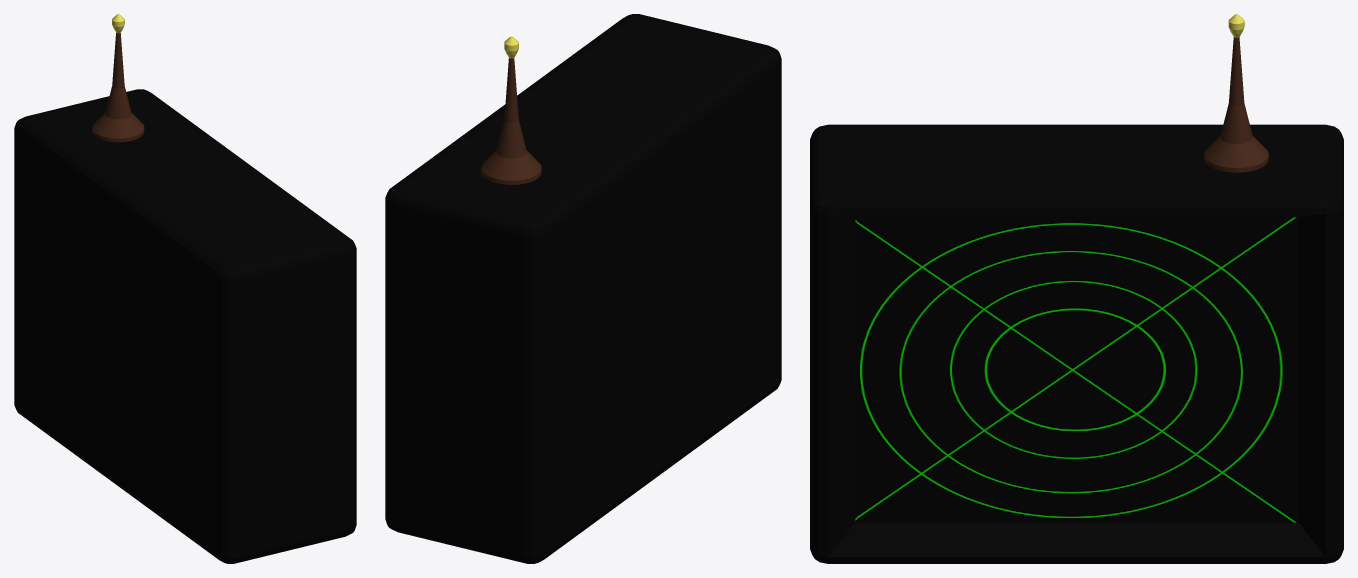
The model's file is radar.fbx.
The picture shows the model from 3 angles, left to right: view 1: azimuth 30°, elevation 25°; view 2: azimuth 150°, elevation 25°; view 3: azimuth 270°, elevation 25°; orthographic projection. The views are drawn at different scales.
Visible parts, largest first — view 1: Cube; view 2: Cube; view 3: Cube.
Part boxes in pixels (x1,y1,x2,y2): Cube: (14,14,356,563); Cube: (385,14,781,563); Cube: (810,14,1343,563).
Size of the model in its own units: 73.22 by 212 by 200.
